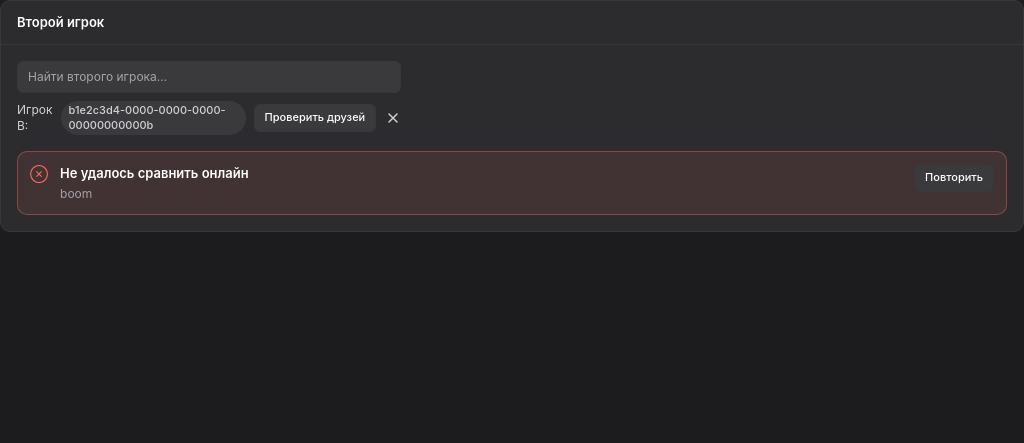
Test: CompareOnlineView › retries through the effect and renders the answer
Click the button "Повторить".
click(954, 178)  # box [914,164,994,192]
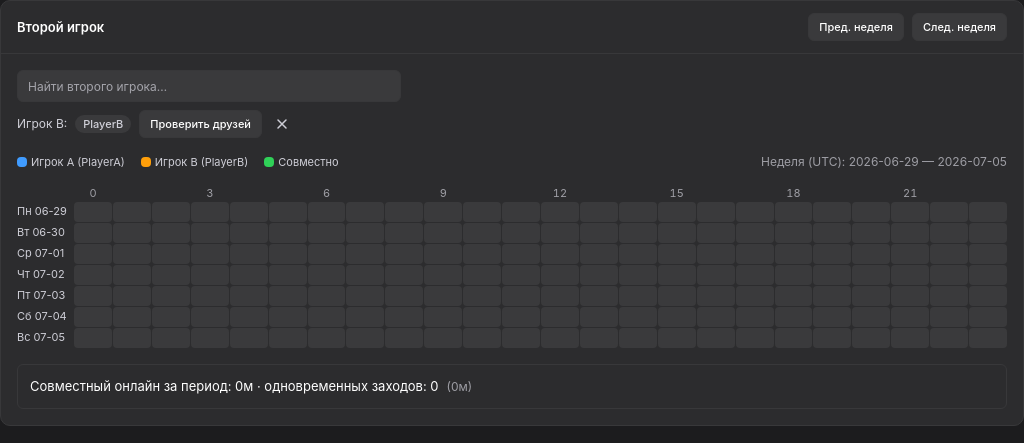
Expected: the text "Игрок B (PlayerB)" is shown, [141,155,248,169]
